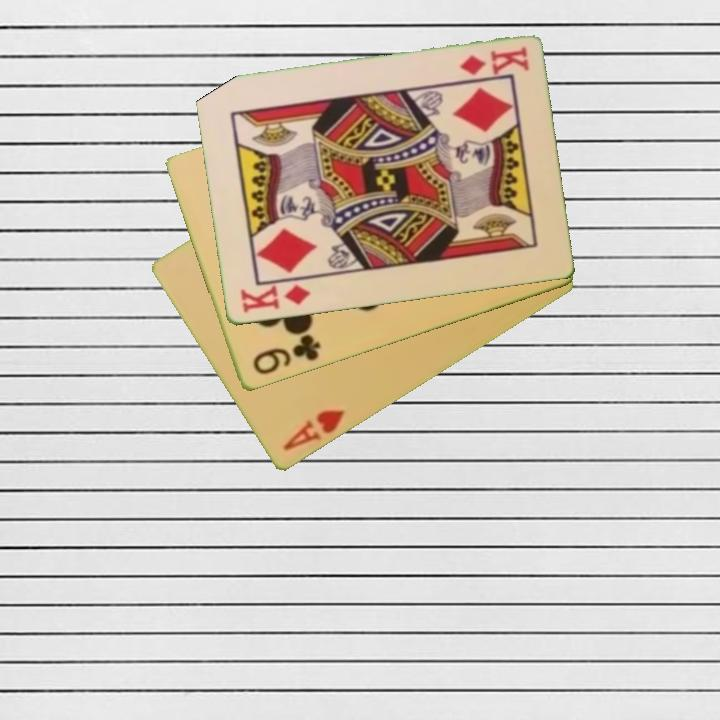9c: (249, 331, 324, 378)
Ah: (279, 406, 348, 455)
Kd: (236, 281, 314, 317), (456, 43, 532, 79)
